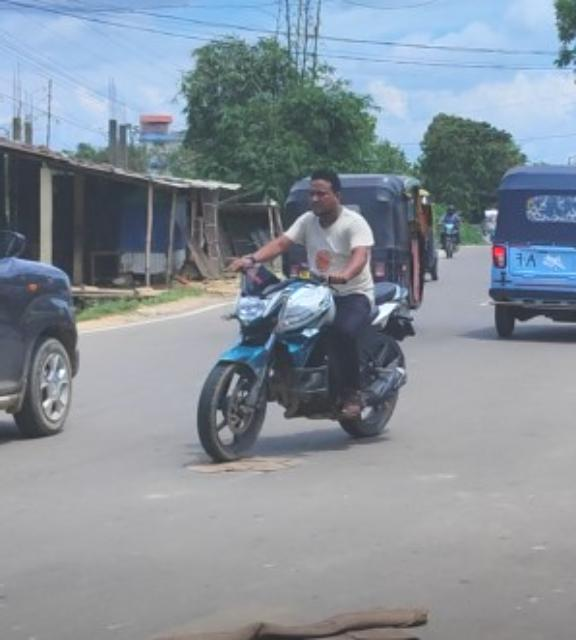motorcycle: (196, 165, 413, 461)
withoutHelmet: (306, 170, 341, 216)
